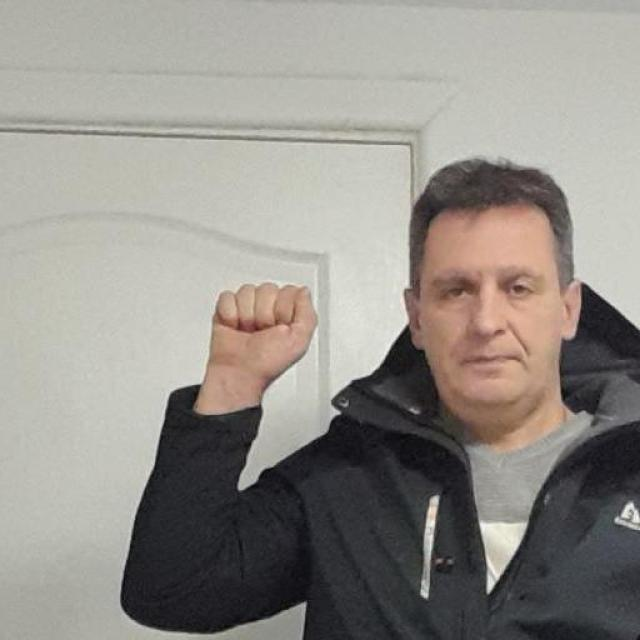hand: (194, 280, 318, 414)
